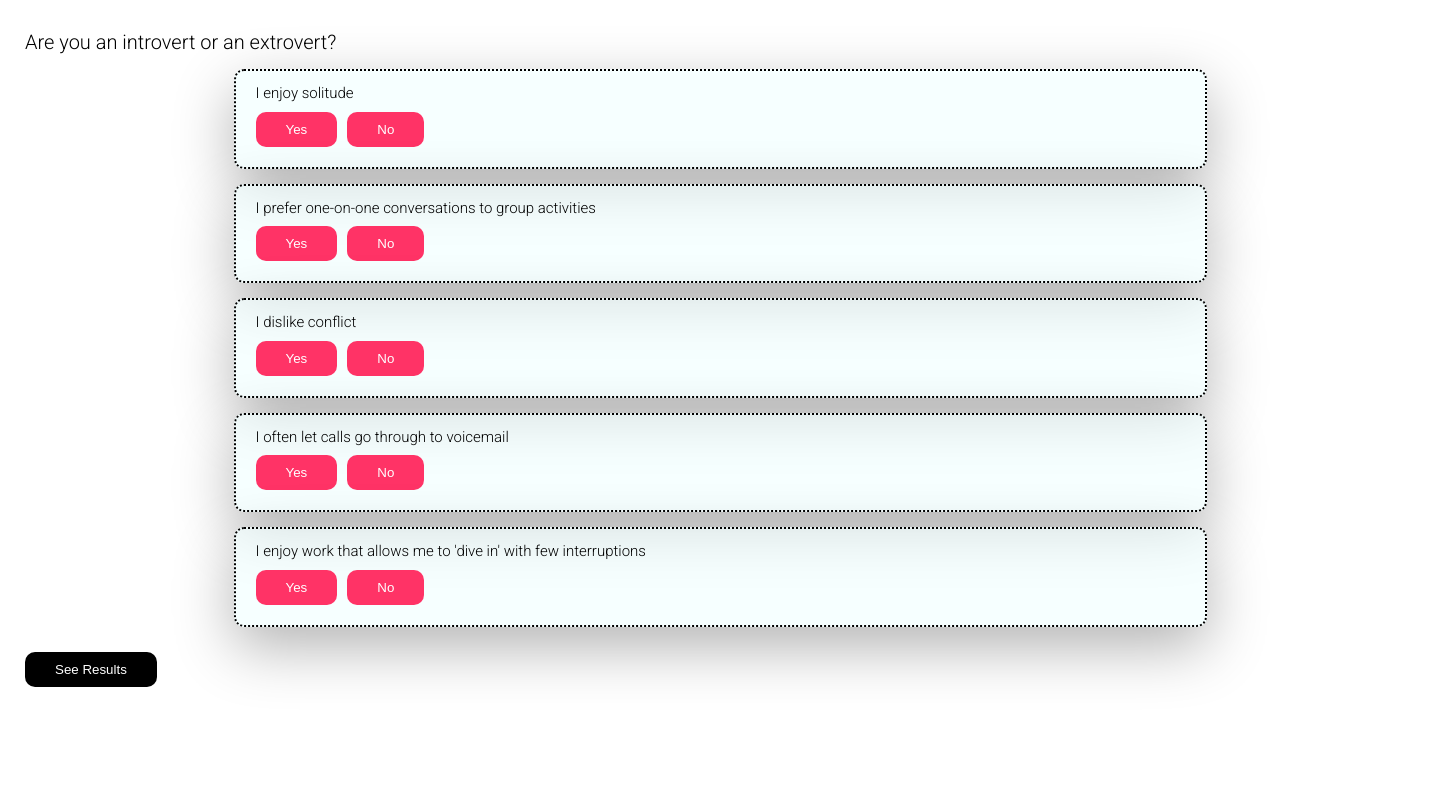
Test: PersonalityPage component › interactions › should display 'Introvert' on button clicks
This screenshot has width=1440, height=810.
Click the button "Yes" below "I enjoy solitude" at [296, 129], box x1=256 y1=112 x2=337 y2=146
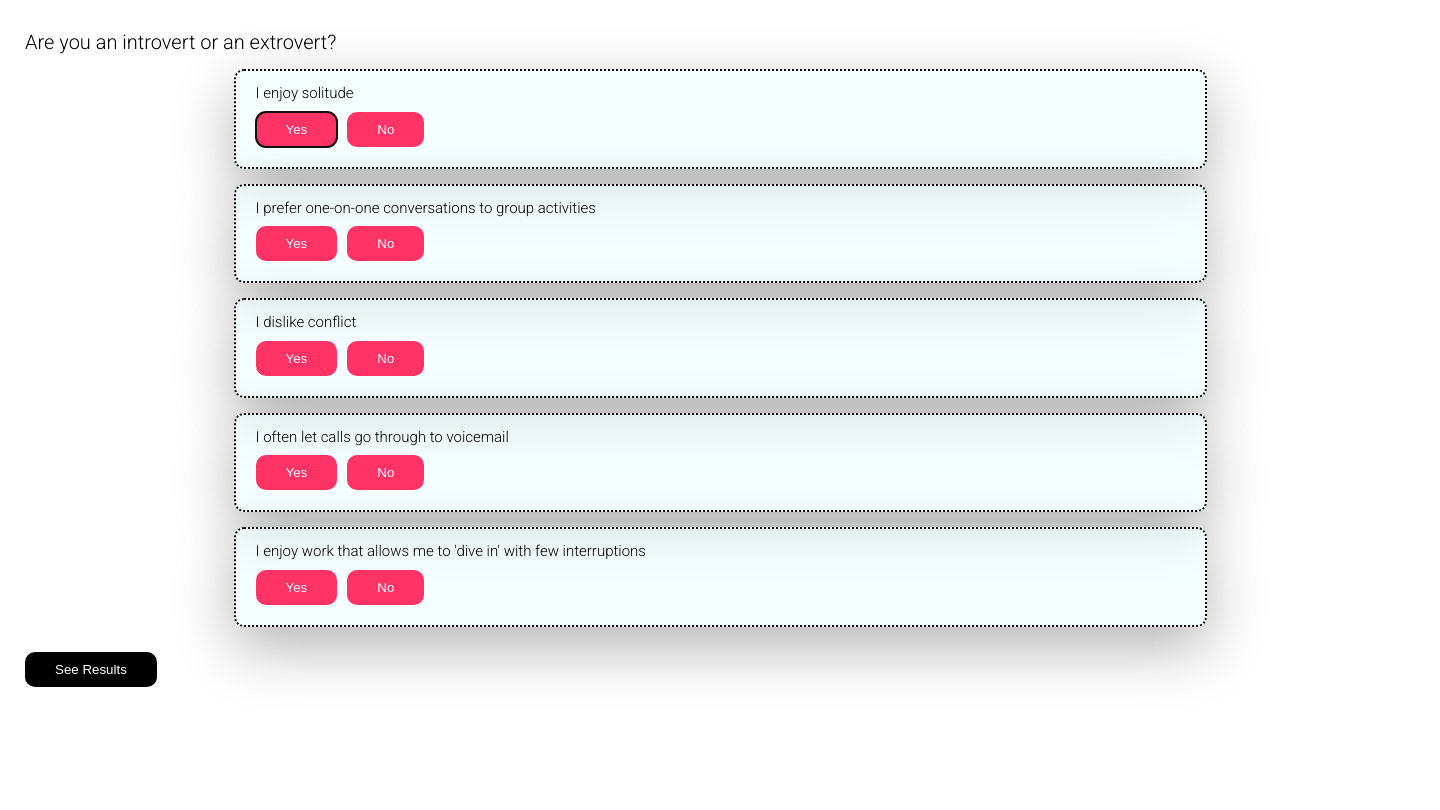
Click the 2nd button "Yes" at [296, 244], box x1=256 y1=226 x2=337 y2=261
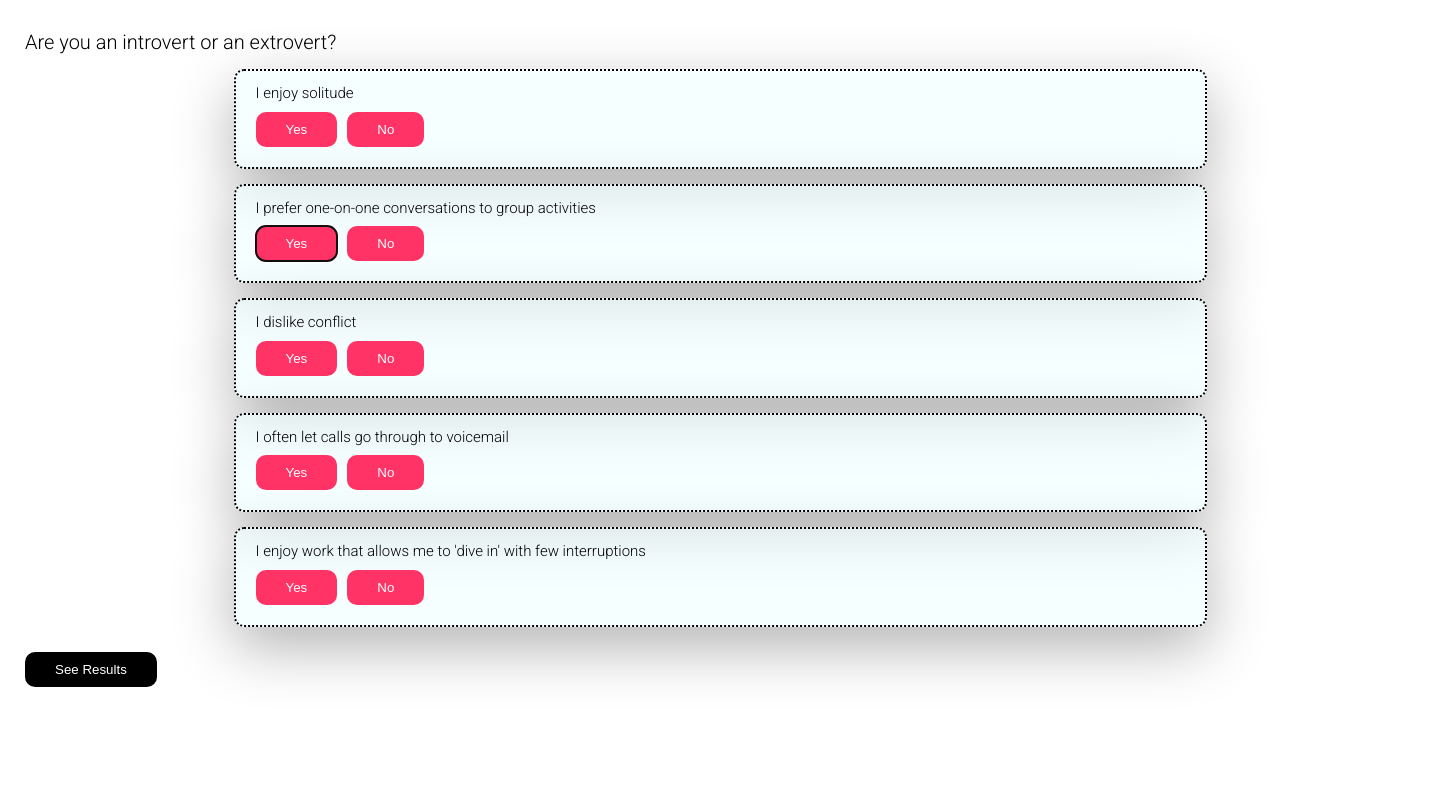
Click the button "Yes" below "I dislike conflict" at [296, 358], box x1=256 y1=340 x2=337 y2=376
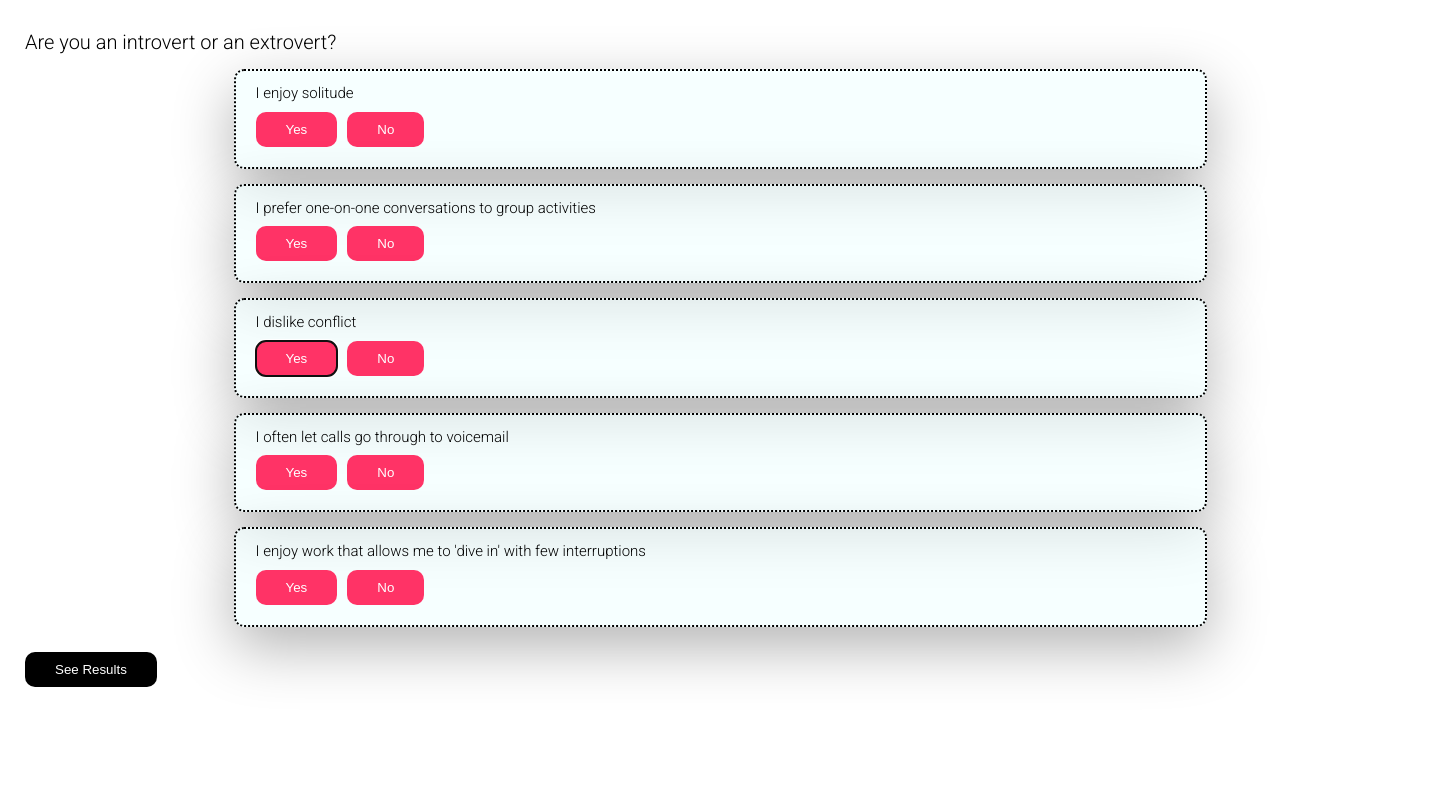
Click the 4th button "Yes" at [296, 472], box x1=256 y1=455 x2=337 y2=490
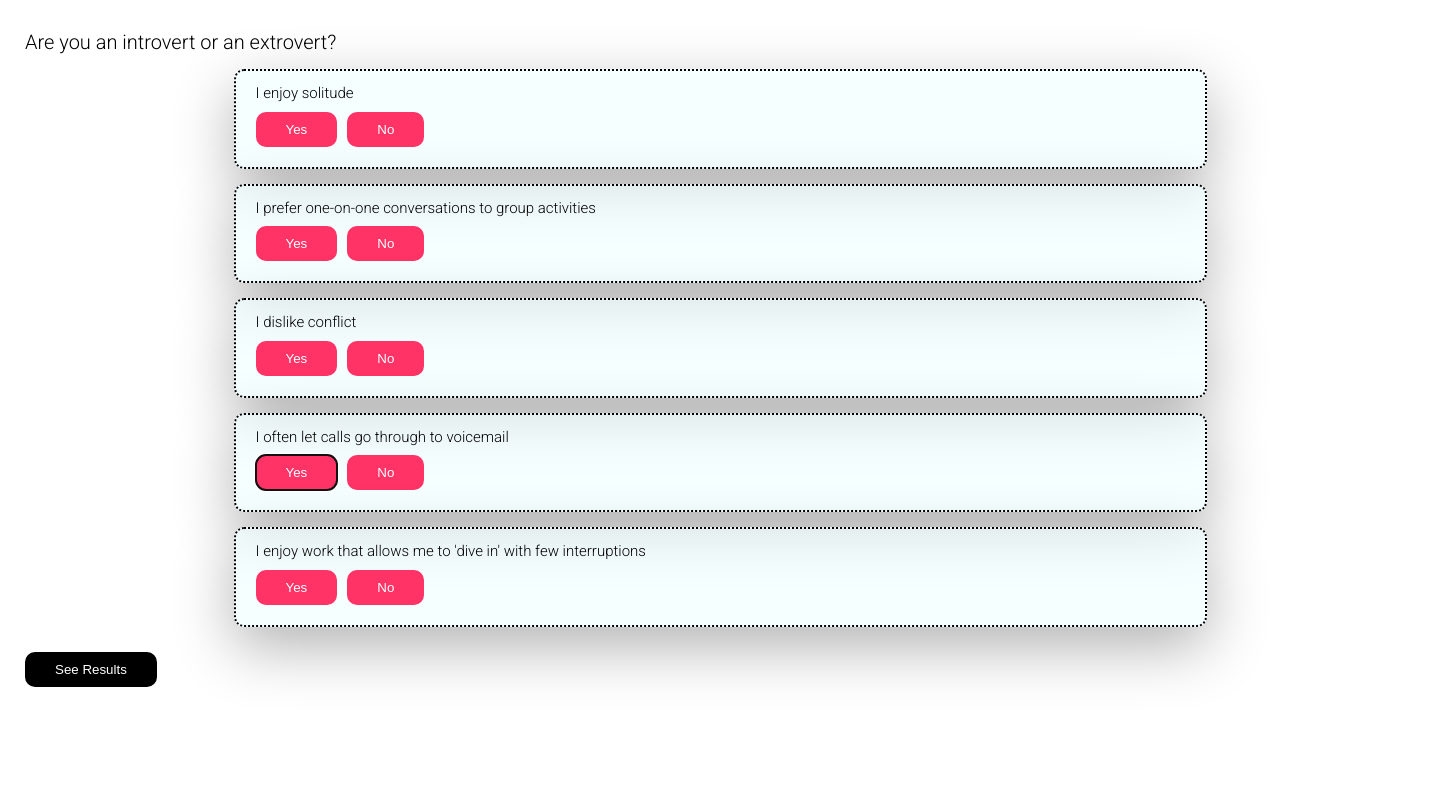
Click the 5th button "Yes" at [296, 587], box x1=256 y1=570 x2=337 y2=604
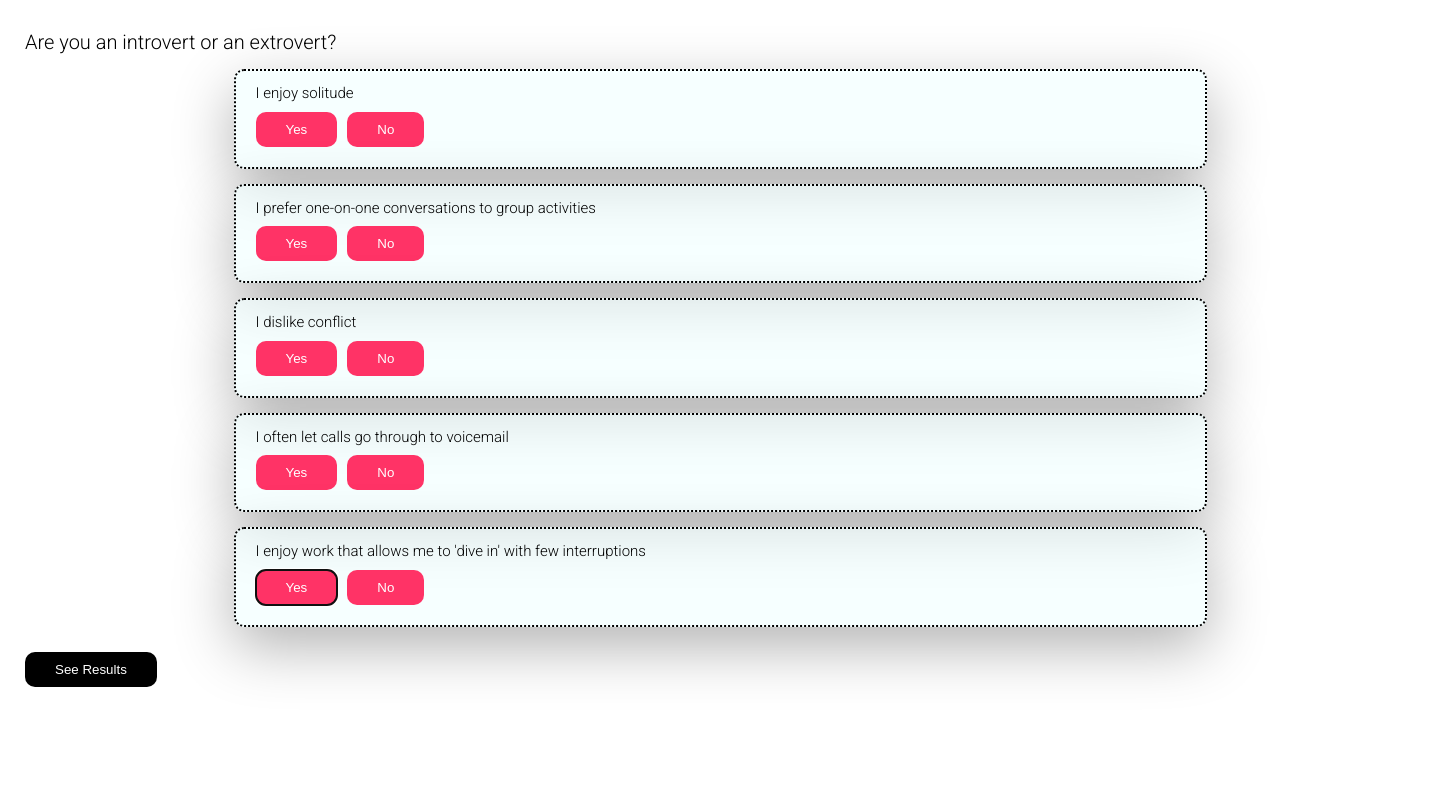
Click the button "See Results" at [91, 669], box x1=25 y1=652 x2=157 y2=686
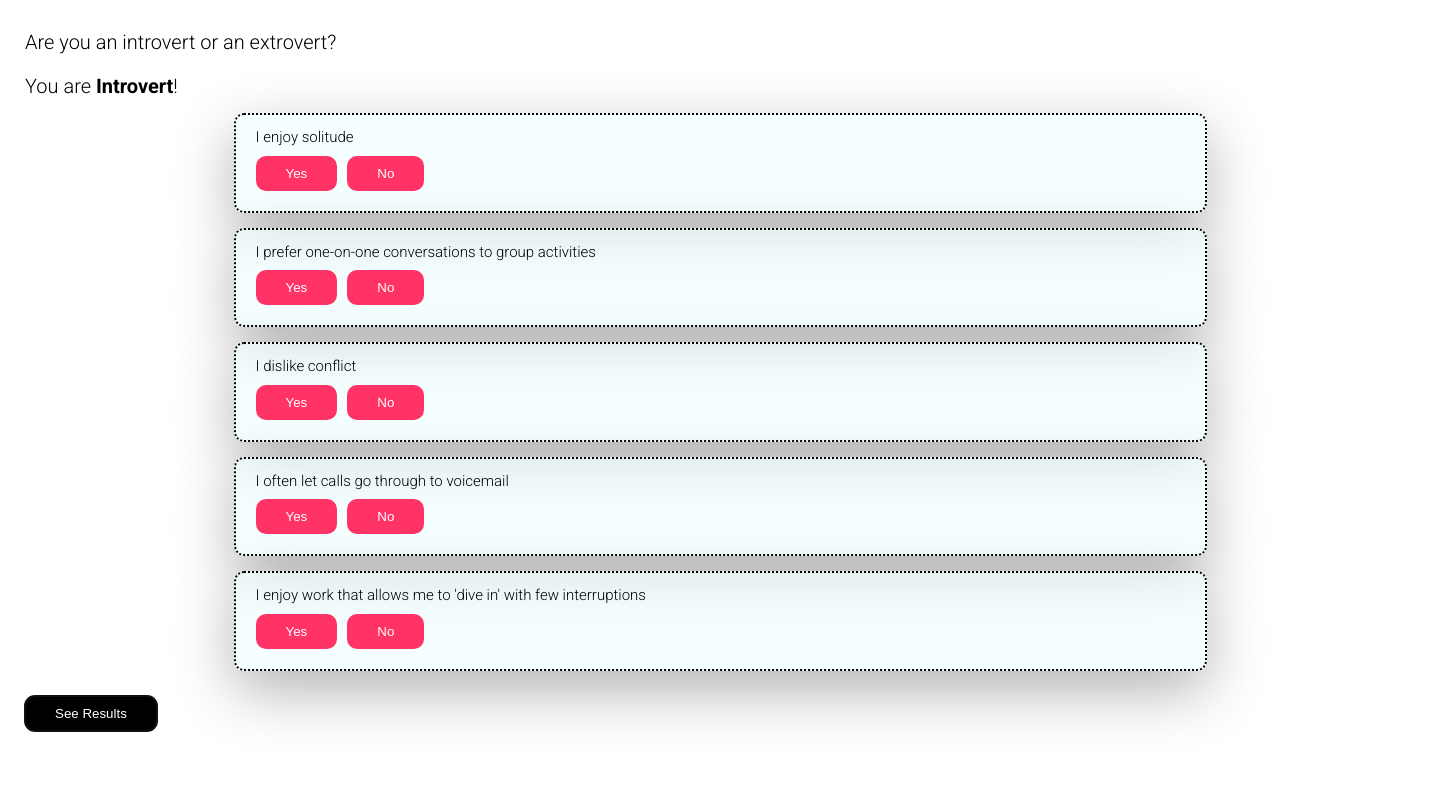
Expected: the text "Introvert" is shown, x1=96 y1=74 x2=173 y2=98
